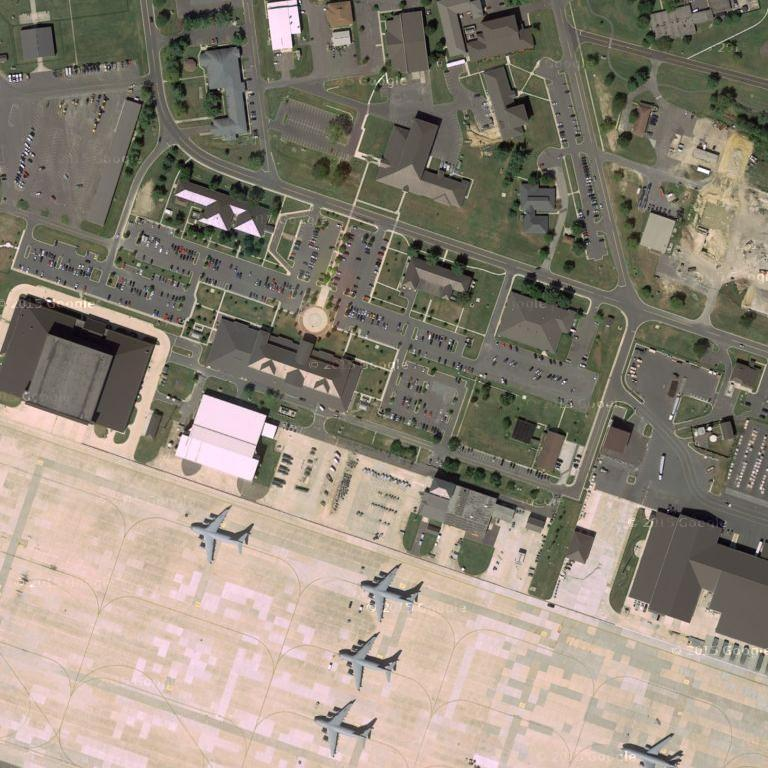C-17: (354, 558, 425, 625), (185, 504, 256, 565), (335, 633, 407, 690), (312, 700, 381, 757)
KC-10: (618, 729, 686, 768)
